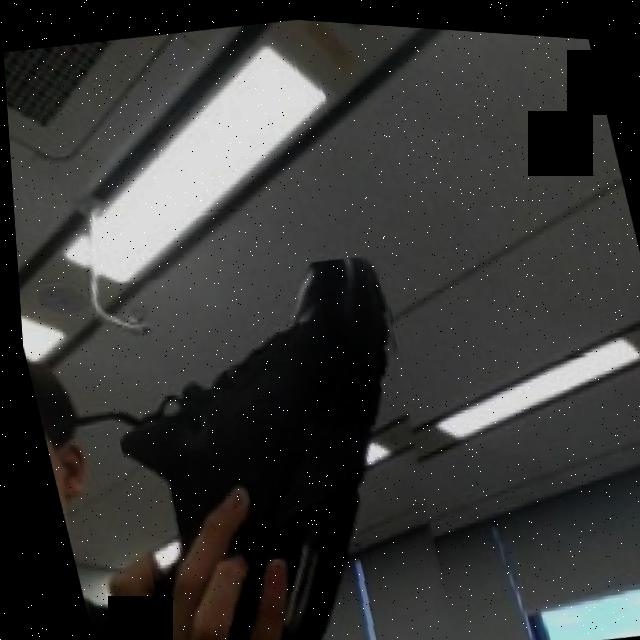shoe: (75, 233, 466, 640)
